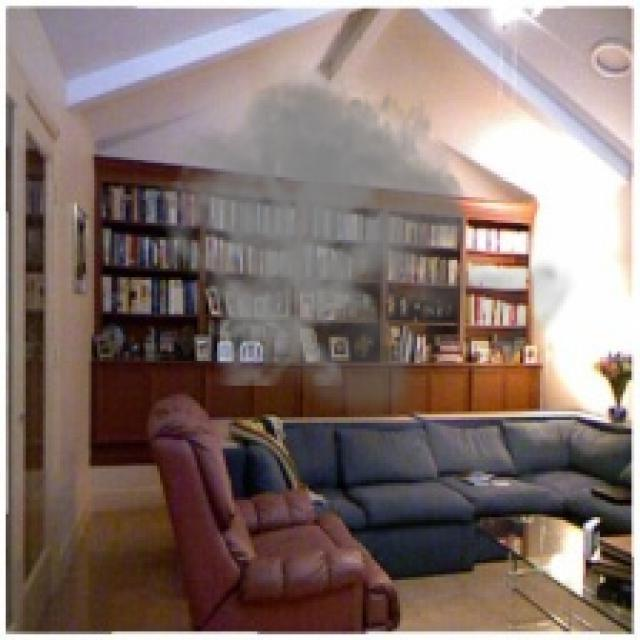Smoke: (154, 54, 577, 432)
